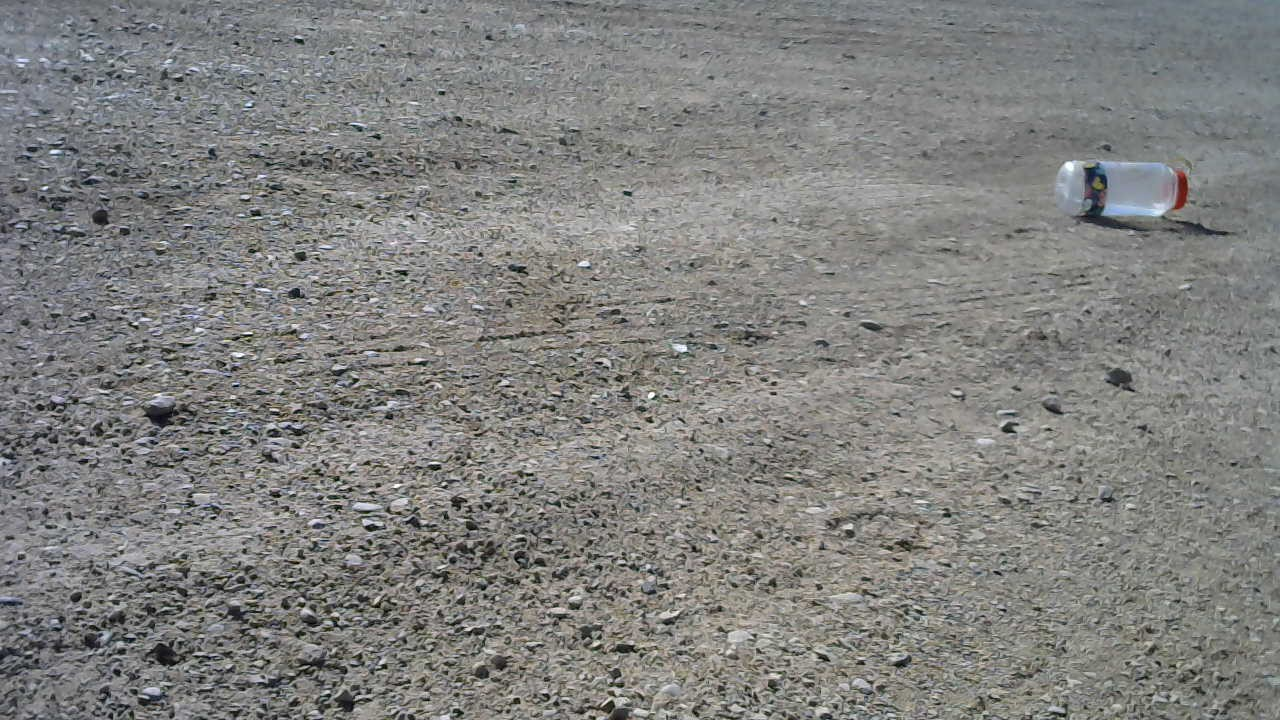bottle: (1053, 160, 1193, 220)
